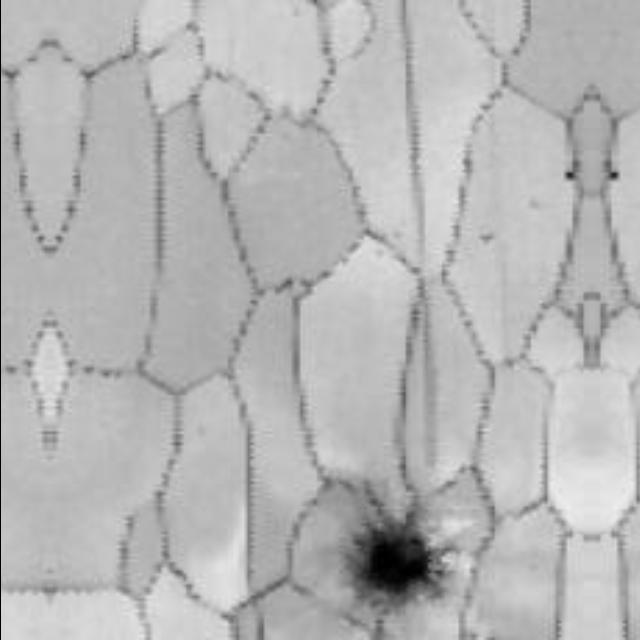good_void: (312, 478, 482, 640), (473, 224, 496, 247), (560, 168, 578, 186), (603, 168, 621, 186)
